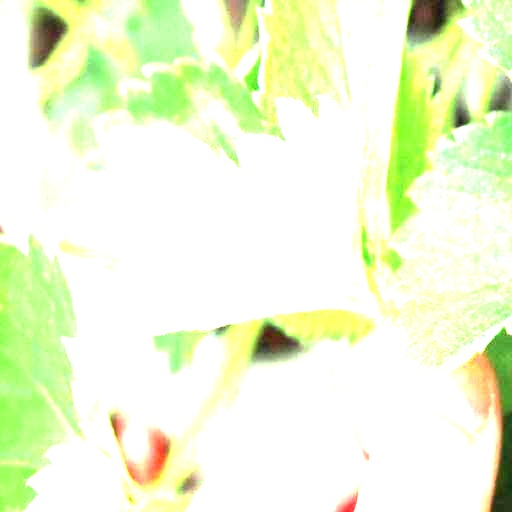Powdery Mildew Leaf: (102, 94, 381, 337)
